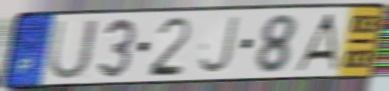2: (146, 15, 193, 78)
3: (95, 16, 138, 80)
8: (254, 12, 299, 75)
A: (291, 11, 340, 72)
J: (196, 14, 241, 76)
U: (46, 17, 101, 81)
